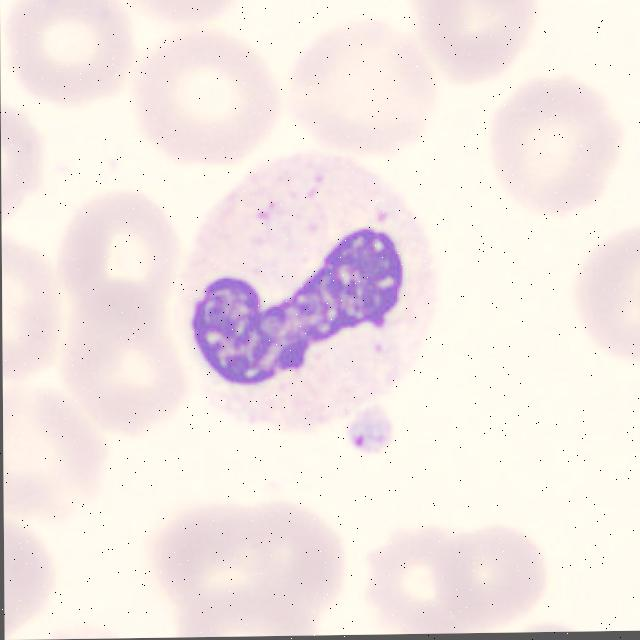neutrophil: (181, 157, 438, 434)
platelets: (346, 407, 395, 462)
rbc: (471, 61, 637, 236), (282, 24, 438, 163), (137, 485, 275, 638), (205, 486, 347, 633), (65, 297, 196, 453), (46, 189, 182, 339), (126, 32, 270, 170), (350, 513, 486, 635), (3, 380, 118, 524), (0, 0, 131, 111), (427, 515, 546, 634), (2, 231, 93, 380), (555, 227, 640, 375), (397, 0, 540, 87), (4, 510, 66, 637), (1, 88, 55, 231), (124, 0, 238, 40), (43, 614, 134, 639), (493, 616, 624, 633)
